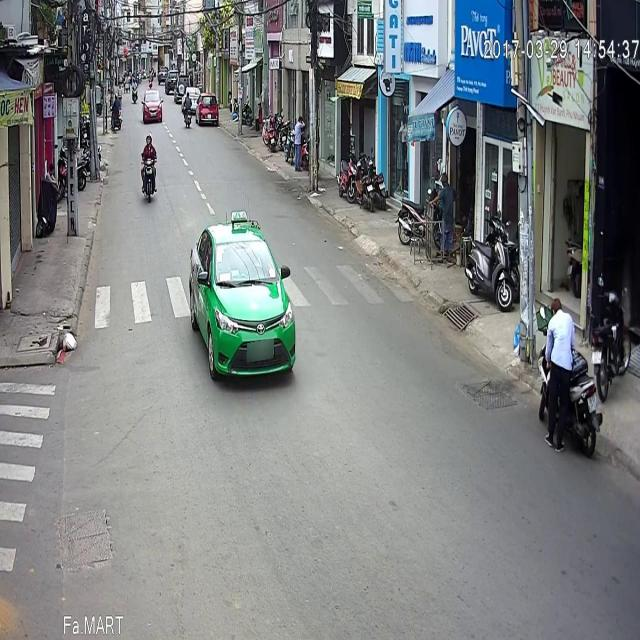car: (188, 151, 295, 321), (196, 34, 218, 68), (141, 30, 163, 64)
motorcycle: (140, 74, 158, 145)
